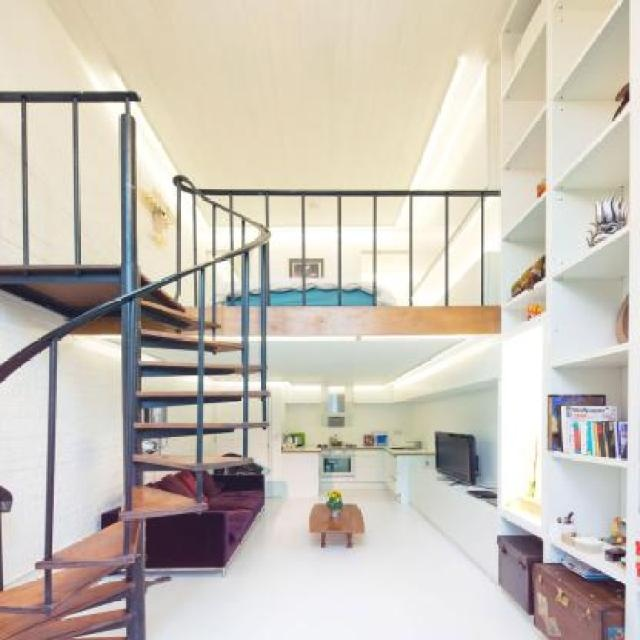stair: (0, 195, 258, 638)
